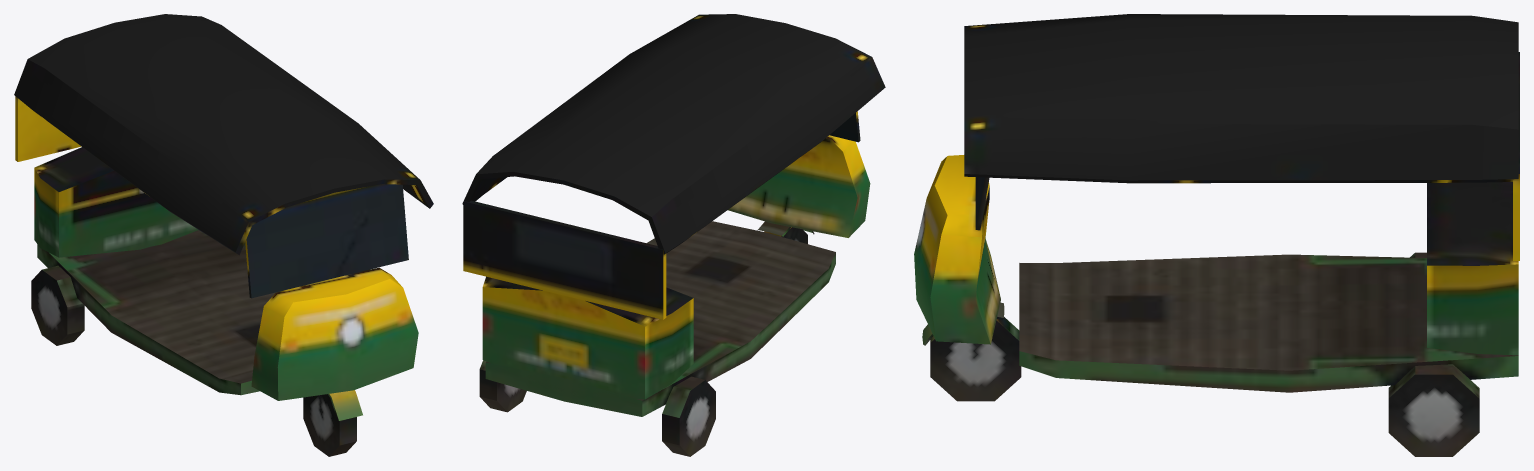
The model's file is auto_rickshaw_lod.glb.
3 renders of one model, left to right at view 1: azimuth 30°, elevation 25°; view 2: azimuth 150°, elevation 25°; view 3: azimuth 270°, elevation 25°, orthographic. The views are drawn at different scales.
Parts seen in each view (by area): view 1: auto_rickshaw_lod; view 2: auto_rickshaw_lod; view 3: auto_rickshaw_lod.
Part boxes in pixels (x1,y1,x2,y2): auto_rickshaw_lod: [14, 14, 433, 456]; auto_rickshaw_lod: [462, 14, 885, 456]; auto_rickshaw_lod: [914, 14, 1519, 456].
Bounding box in the file's own units: 1.31 × 1.68 × 2.64.
1 material, 1 textured.
